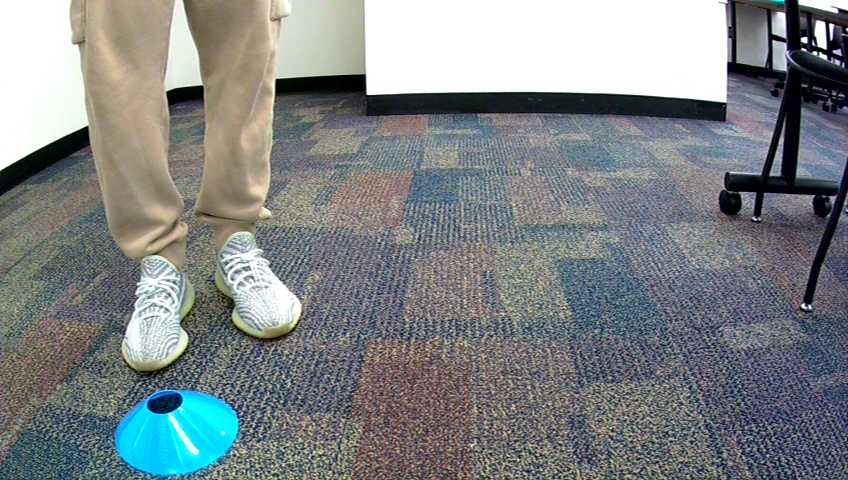cone: (114, 389, 239, 473)
